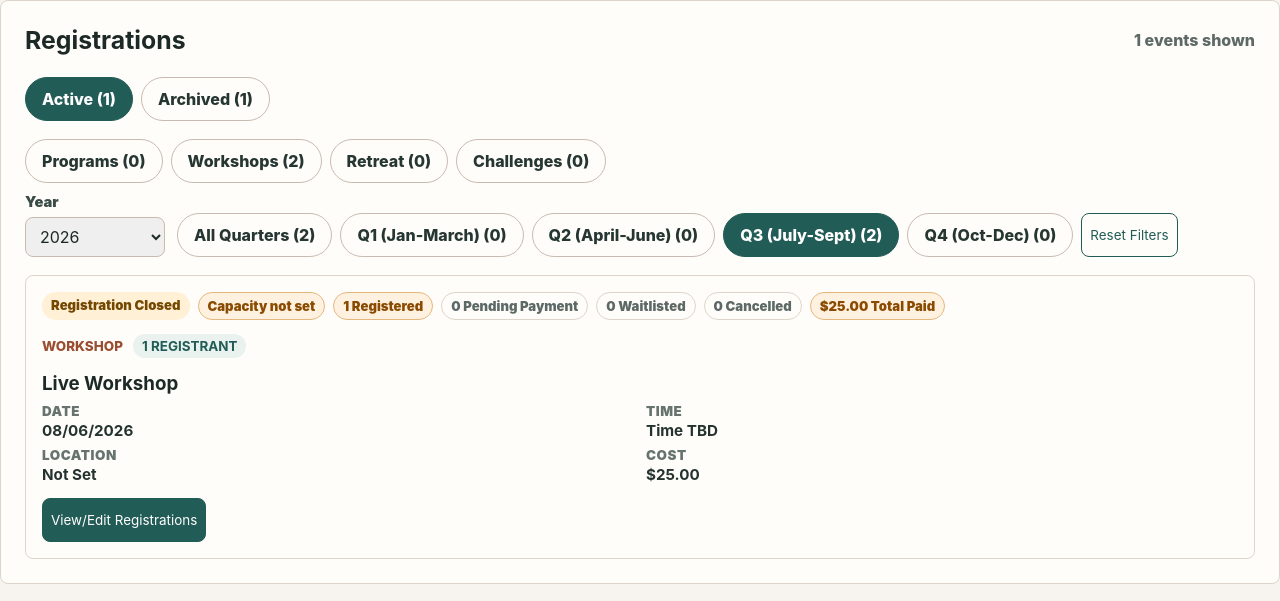
Scenario: Registrations card archive filter › returns to Active after Reset Filters
Click the button "Archived (1)": (206, 99) [141,77,270,121]
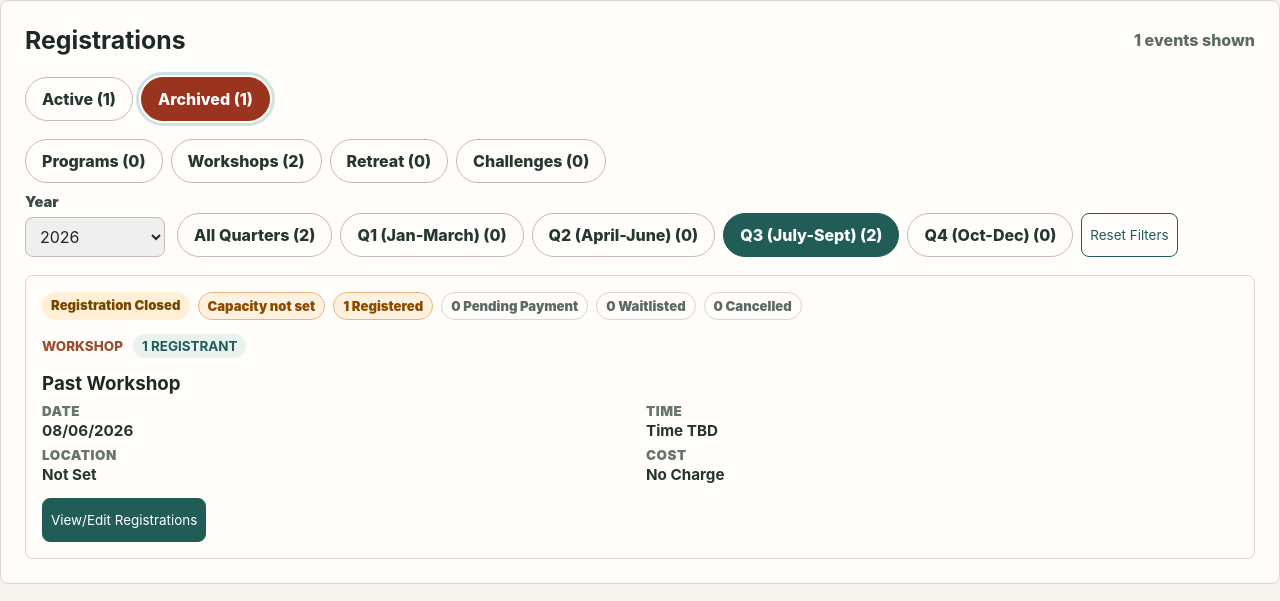
Result: the heading "Past Workshop" is shown at [42,372,181,395]
Click the button "Reset Filters": (1129, 235) [1081,213,1178,257]
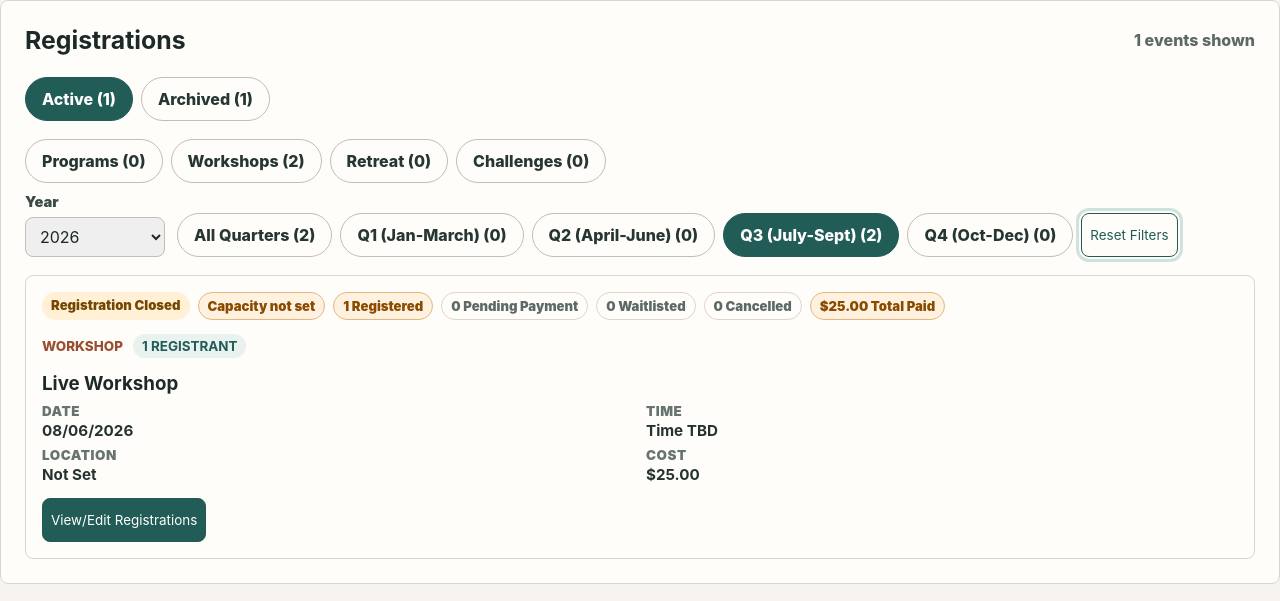
Result: the heading "Live Workshop" is shown at [42,372,178,395]
Result: the heading "Past Workshop" is gone
